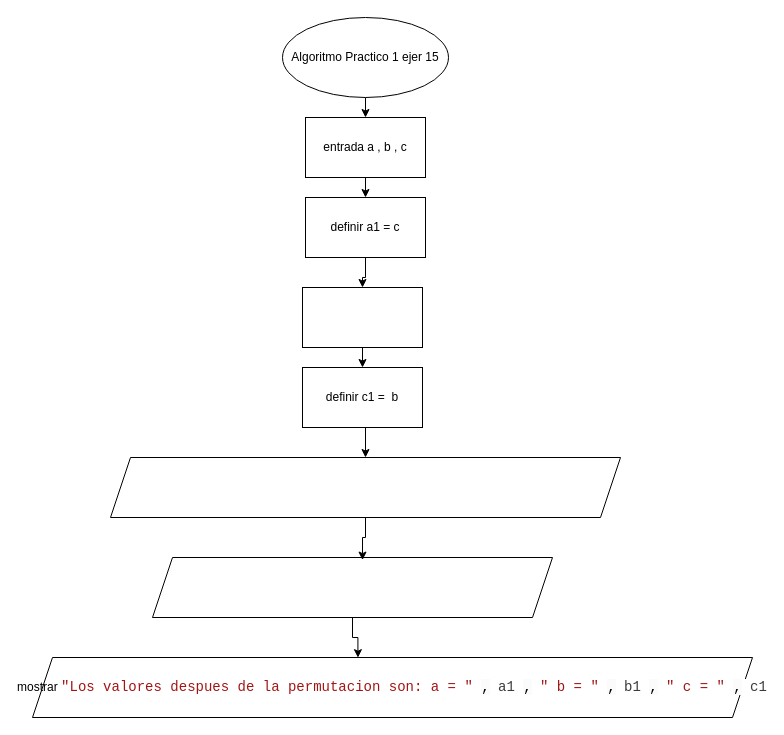
Some shapes in this 784 by 735 pixel diagram are drawn without their labels. The box of each missing label's shape, as (x1, y1, x2, y2) in pixels:
definir b1 = a: (302, 286, 422, 348)
mostrar "Los valores son: a = " , a , " b = " , b , " y c = " , c: (110, 456, 620, 518)
mostrar "Permutamos: a => b, b => c, c => a": (152, 556, 552, 618)
